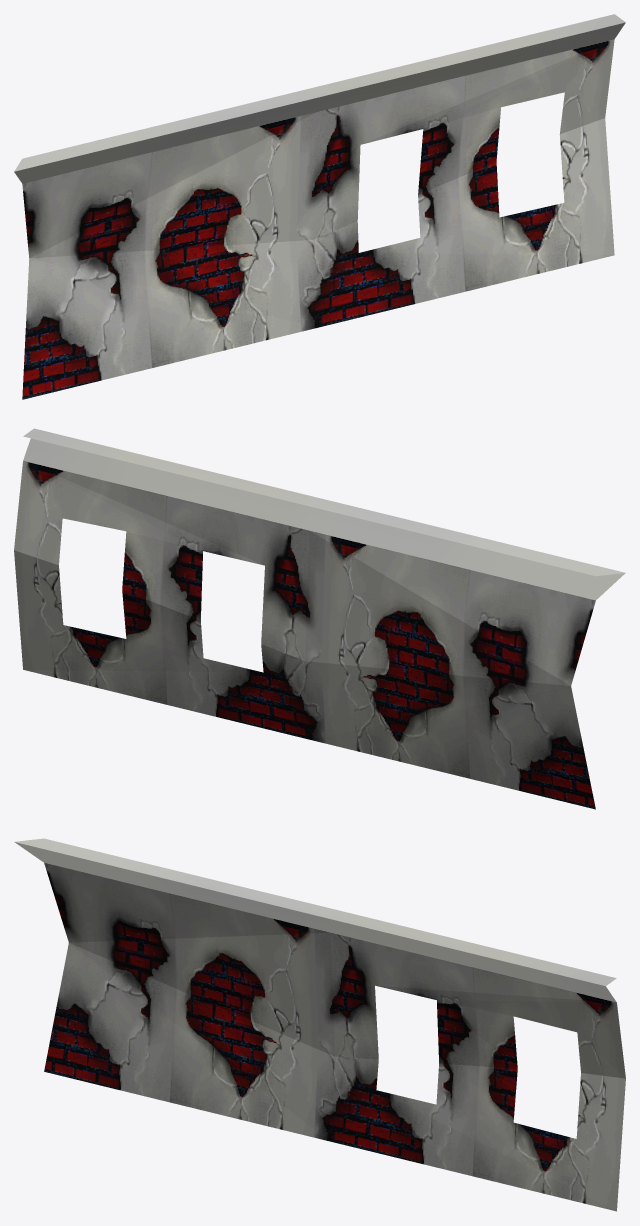
The model's file is W_A2l_xxff [Verwahrlost]_342.glb.
The picture shows the model from 3 angles, top to bottom: view 1: azimuth 30°, elevation 25°; view 2: azimuth 150°, elevation 25°; view 3: azimuth 330°, elevation 25°; orthographic projection. The views are drawn at different scales.
Visible parts, largest first — view 1: polySurfaceShape853, polySurfaceShape1033; view 2: polySurfaceShape853, polySurfaceShape1033; view 3: polySurfaceShape853, polySurfaceShape1033.
Boxes of the visible parts, bbox=[...] form: polySurfaceShape853: bbox=[22, 39, 614, 399]; polySurfaceShape1033: bbox=[14, 14, 625, 183]; polySurfaceShape853: bbox=[14, 461, 595, 809]; polySurfaceShape1033: bbox=[23, 428, 625, 600]; polySurfaceShape853: bbox=[44, 863, 625, 1211]; polySurfaceShape1033: bbox=[14, 838, 616, 1002].
Bounding box in the file's own units: 1.03 × 0.3891 × 0.0607.
2 materials, 2 textured.
